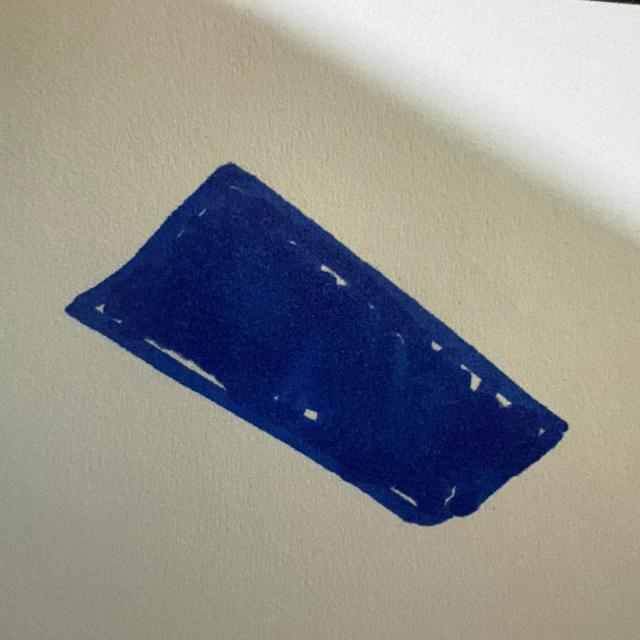Rectangle: (66, 164, 567, 525)
